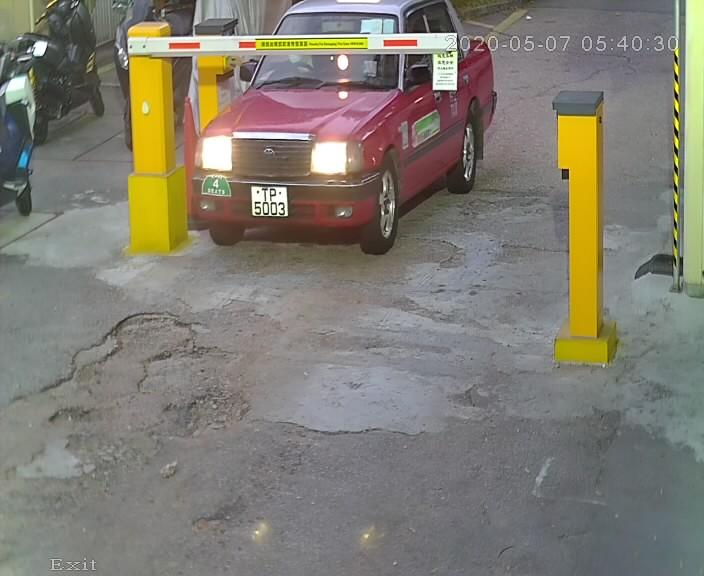Car: (185, 1, 511, 267)
License Plate: (245, 183, 294, 220)
